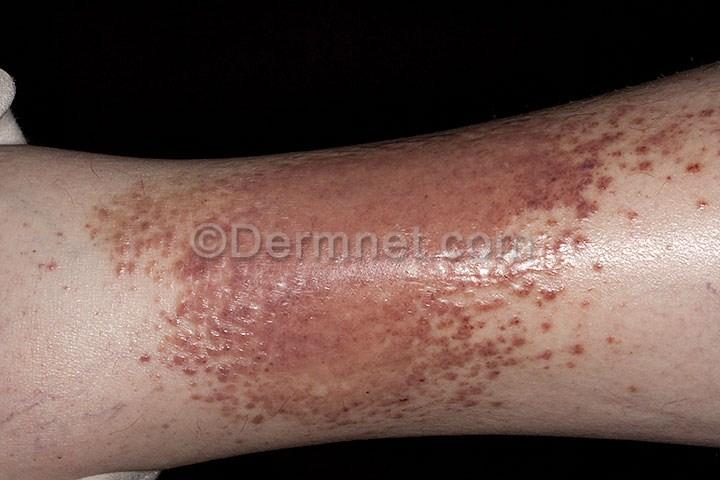Eczema: (395, 140, 549, 332), (181, 157, 393, 286), (567, 90, 710, 278), (141, 290, 289, 432), (423, 320, 554, 463), (275, 294, 410, 429), (59, 181, 192, 288)
